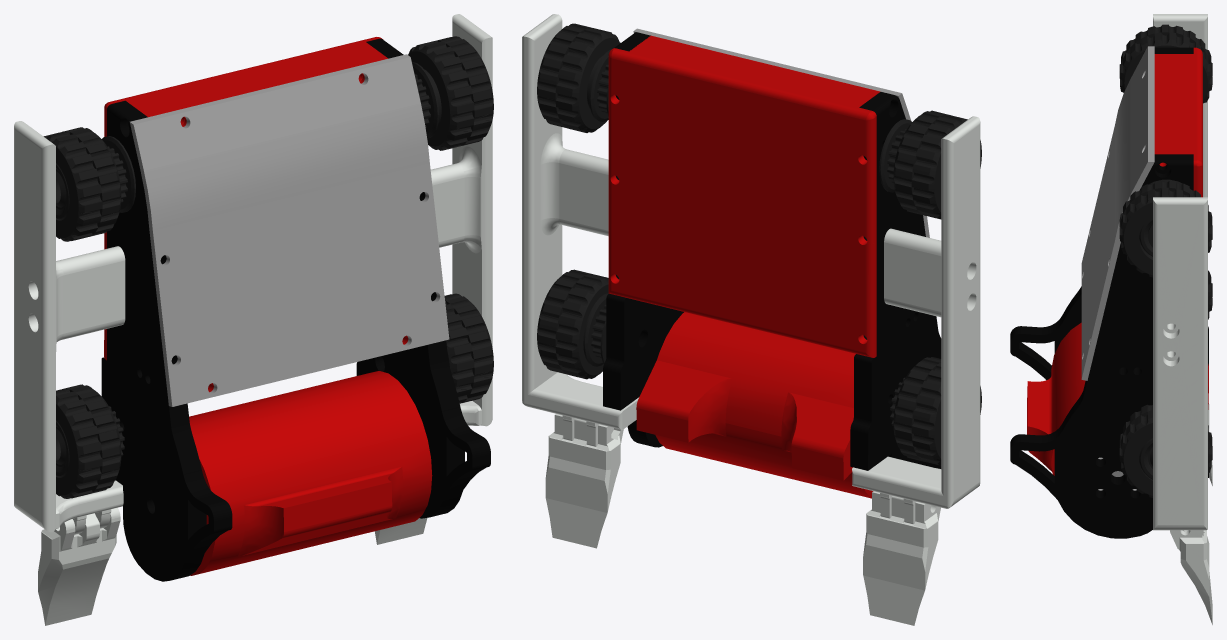
Rendered from edgehog-v7.glb.
3 views of the same model, side by side, from view 1: azimuth 30°, elevation 25°; view 2: azimuth 150°, elevation 25°; view 3: azimuth 270°, elevation 25° (orthographic). The views are drawn at different scales.
Size of the model in its own units: 146 by 160 by 66.25.
